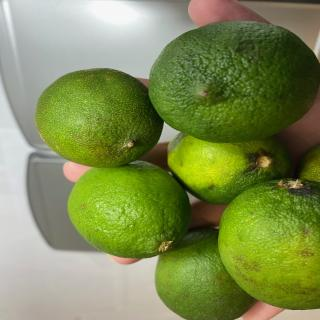Chilli: (148, 20, 319, 143), (34, 67, 164, 168)
Lemon: (217, 178, 320, 310), (67, 160, 192, 259), (154, 227, 257, 320), (167, 131, 292, 205), (296, 144, 320, 183)
